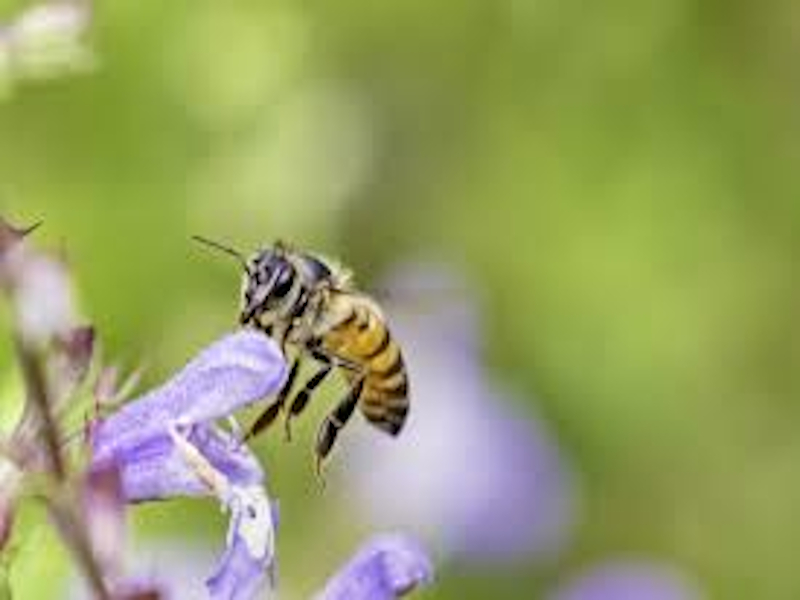abeja: (187, 214, 433, 504)
